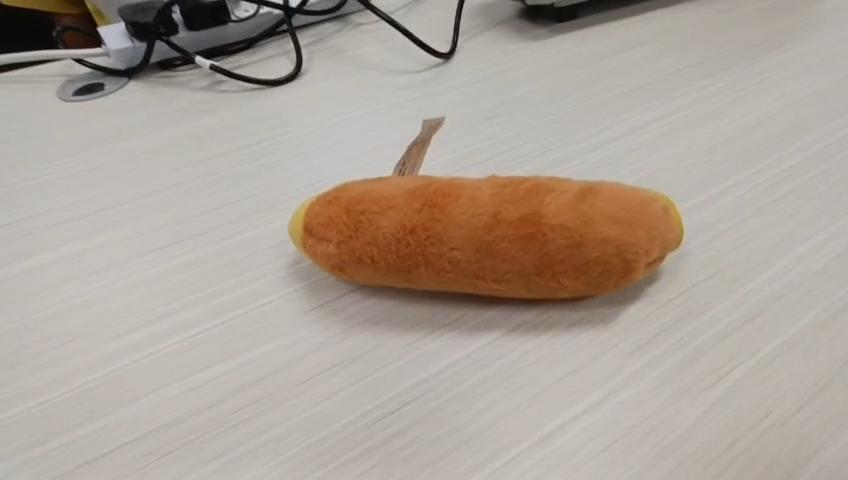hotdog: (285, 175, 685, 299)
